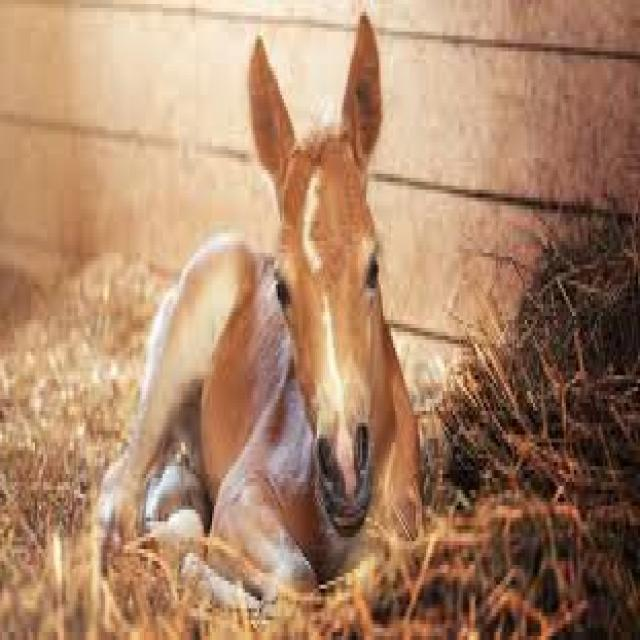horse: (101, 12, 422, 604)
